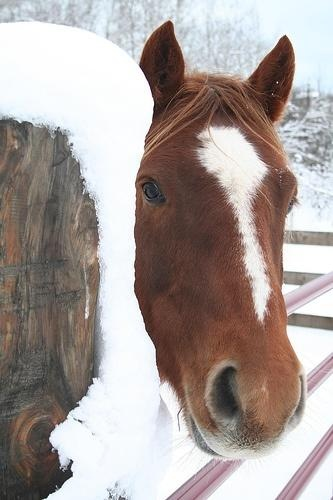horse: (137, 27, 312, 454)
